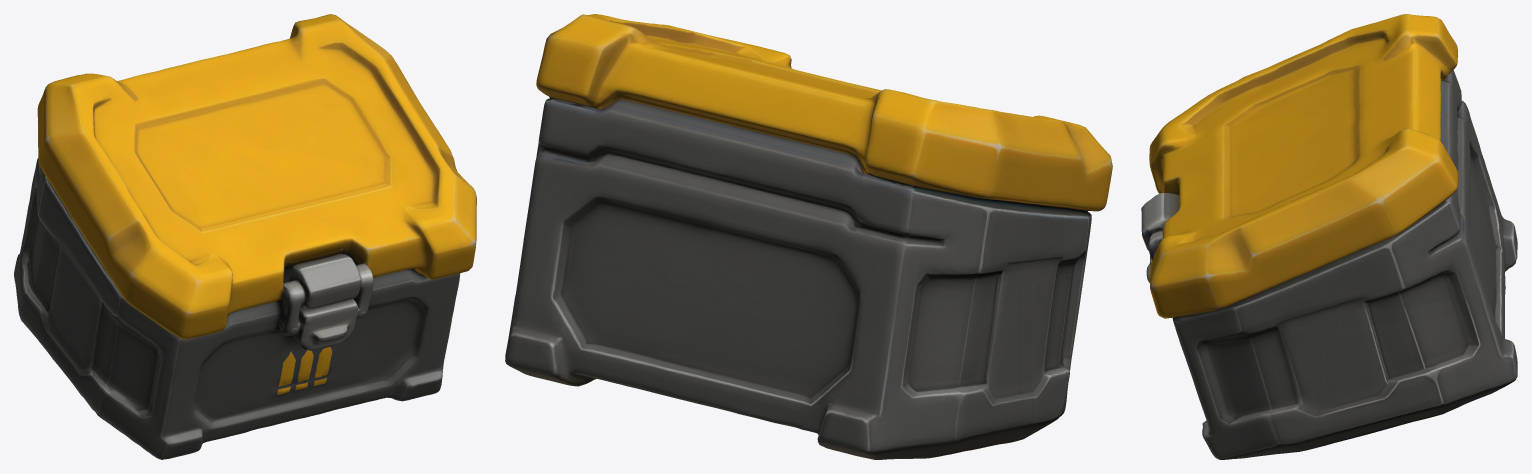
Rendered from rugged_storage_box_3d_model.fbx.
3 views of the same model, side by side, from view 1: azimuth 30°, elevation 25°; view 2: azimuth 150°, elevation 25°; view 3: azimuth 270°, elevation 25° (orthographic). The views are drawn at different scales.
Visible parts, largest first — view 1: tripo_node_6f584767; view 2: tripo_node_6f584767; view 3: tripo_node_6f584767.
Part boxes in pixels (x1,y1,x2,y2): tripo_node_6f584767: (14,14,476,459); tripo_node_6f584767: (505,14,1112,459); tripo_node_6f584767: (1141,14,1517,459).
Size of the model in its own units: 97.88 by 82.66 by 90.59.
1 material, 1 textured.
